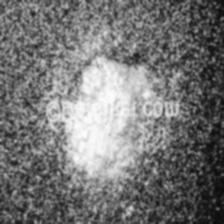Toxin: (68, 61, 146, 170)
